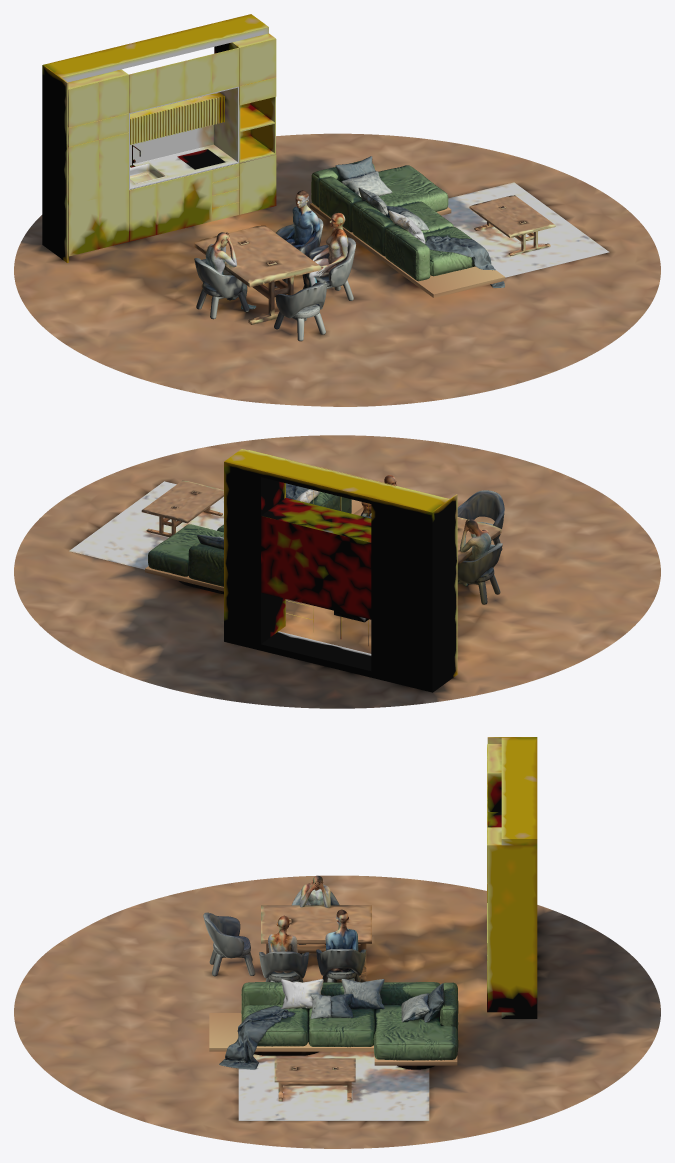
File: meal1.glb
3 views of the same model, one above another, from view 1: azimuth 30°, elevation 25°; view 2: azimuth 150°, elevation 25°; view 3: azimuth 270°, elevation 25° (orthographic).
Visible parts, largest first — view 1: Circle, armoire, salon, table, parents, ben; view 2: Circle, armoire, salon, ben, table; view 3: Circle, salon, armoire, table, parents, ben.
Boxes of the visible parts, bbox=[...] form: Circle: bbox=[14, 133, 660, 406]; armoire: bbox=[42, 14, 276, 262]; salon: bbox=[309, 156, 609, 297]; table: bbox=[194, 225, 327, 341]; parents: bbox=[274, 190, 355, 309]; ben: bbox=[194, 232, 256, 319]; Circle: bbox=[14, 435, 660, 708]; armoire: bbox=[224, 449, 457, 692]; salon: bbox=[69, 480, 363, 594]; ben: bbox=[457, 519, 502, 604]; table: bbox=[457, 490, 504, 564]; Circle: bbox=[14, 875, 660, 1148]; salon: bbox=[209, 979, 458, 1120]; armoire: bbox=[487, 737, 537, 1018]; table: bbox=[203, 905, 371, 982]; parents: bbox=[259, 909, 366, 982]; ben: bbox=[292, 875, 339, 954].
Size of the model in its own units: 9.12 by 2.82 by 9.12.
